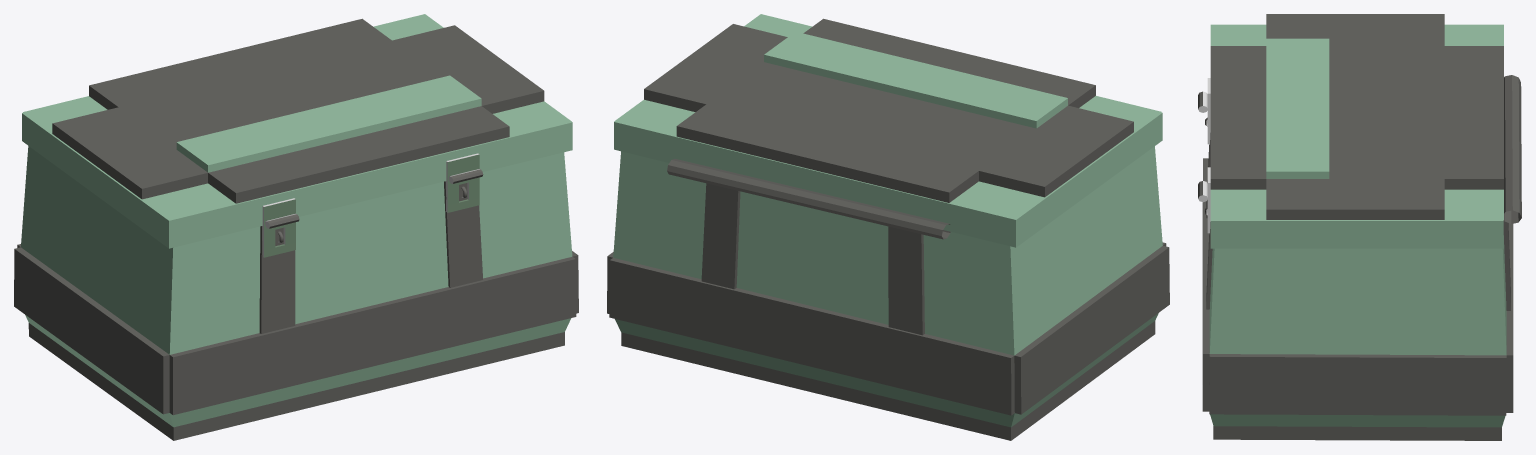
File: вот теперь все.fbx
3 renders of one model, left to right at view 1: azimuth 30°, elevation 25°; view 2: azimuth 150°, elevation 25°; view 3: azimuth 270°, elevation 25°, orthographic.
Parts seen in each view (by area): view 1: Цилиндр, Плоскость.004; view 2: Цилиндр, Плоскость.004; view 3: Плоскость.004, Цилиндр.
Boxes of the visible parts, x1=… form: Цилиндр: x1=14, y1=146, x2=578, y2=440; Плоскость.004: x1=22, y1=14, x2=572, y2=248; Цилиндр: x1=607, y1=146, x2=1169, y2=440; Плоскость.004: x1=614, y1=14, x2=1162, y2=247; Плоскость.004: x1=1210, y1=14, x2=1503, y2=248; Цилиндр: x1=1198, y1=75, x2=1521, y2=440.
Size of the model in its own units: 326 by 182 by 221.
